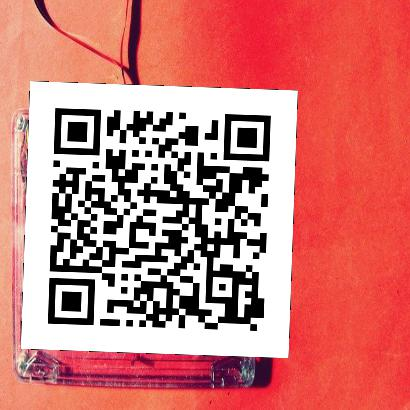qr_code: (21, 81, 297, 357)
